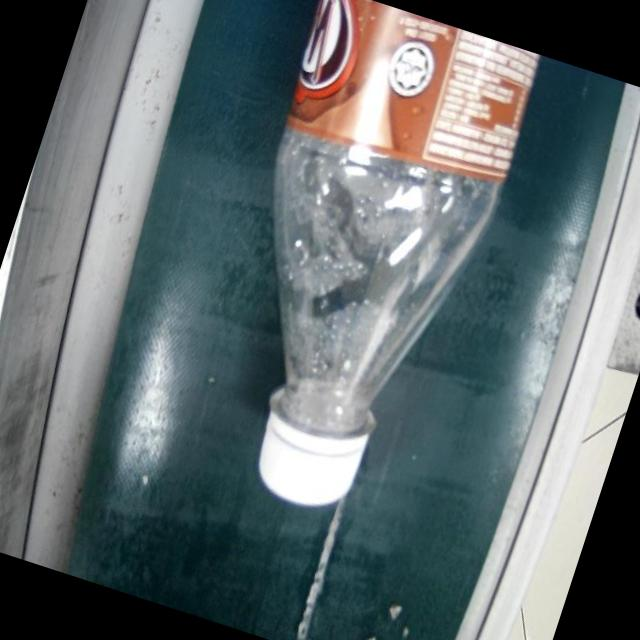BotolPlastik: (165, 0, 547, 537)
